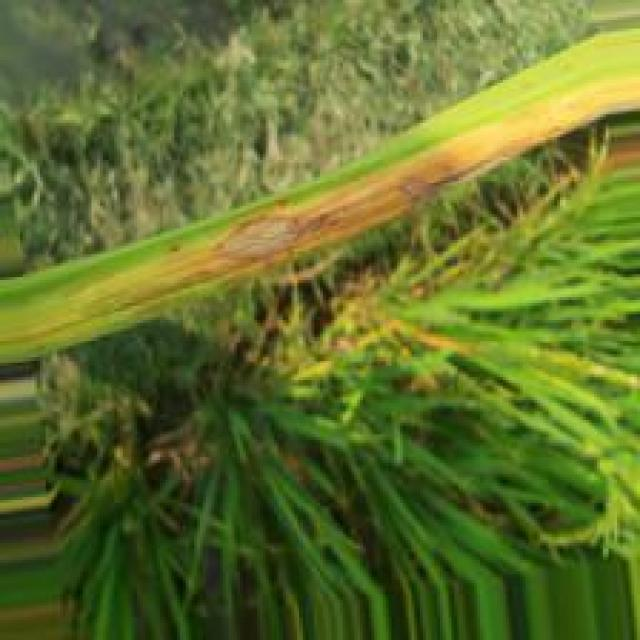Leaf_Blast: (386, 129, 537, 210), (203, 198, 333, 261)
